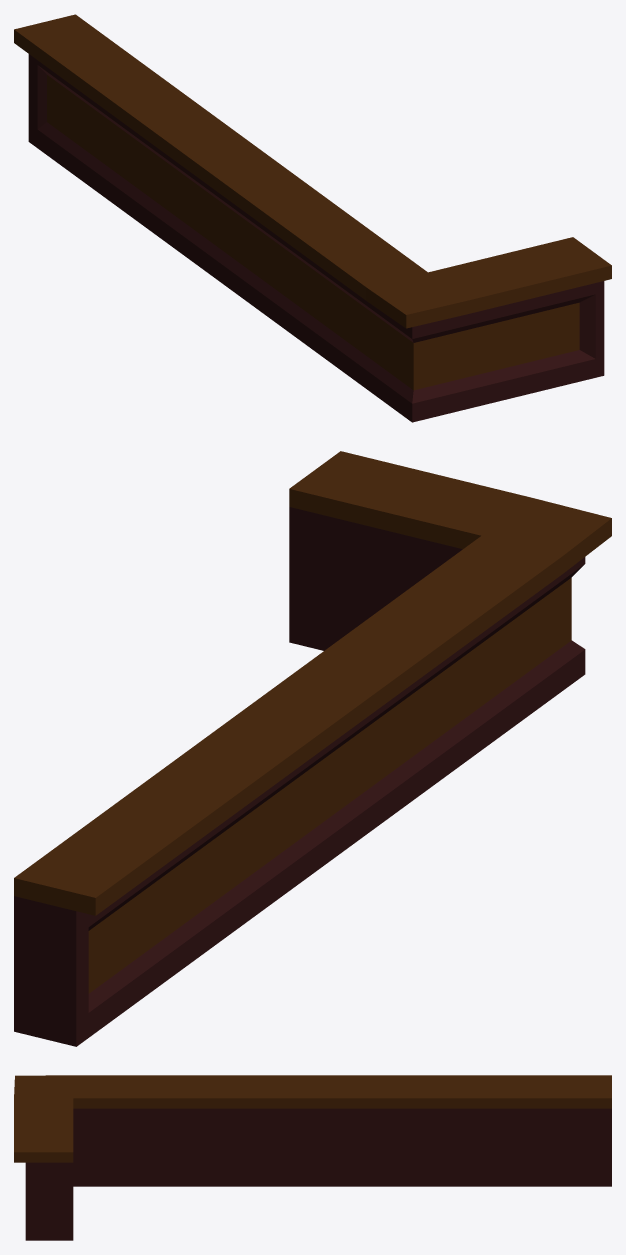
Rendered from LBar.fbx.
The picture shows the model from 3 angles, top to bottom: view 1: azimuth 30°, elevation 25°; view 2: azimuth 150°, elevation 25°; view 3: azimuth 270°, elevation 25°; orthographic projection. The views are drawn at different scales.
Parts seen in each view (by area): view 1: LBar; view 2: LBar; view 3: LBar.
Boxes of the visible parts, bbox=[...] form: LBar: bbox=[14, 14, 611, 422]; LBar: bbox=[14, 451, 611, 1046]; LBar: bbox=[14, 1075, 611, 1240].
Bounding box in the file's own units: 1967 × 1053 × 6451.
